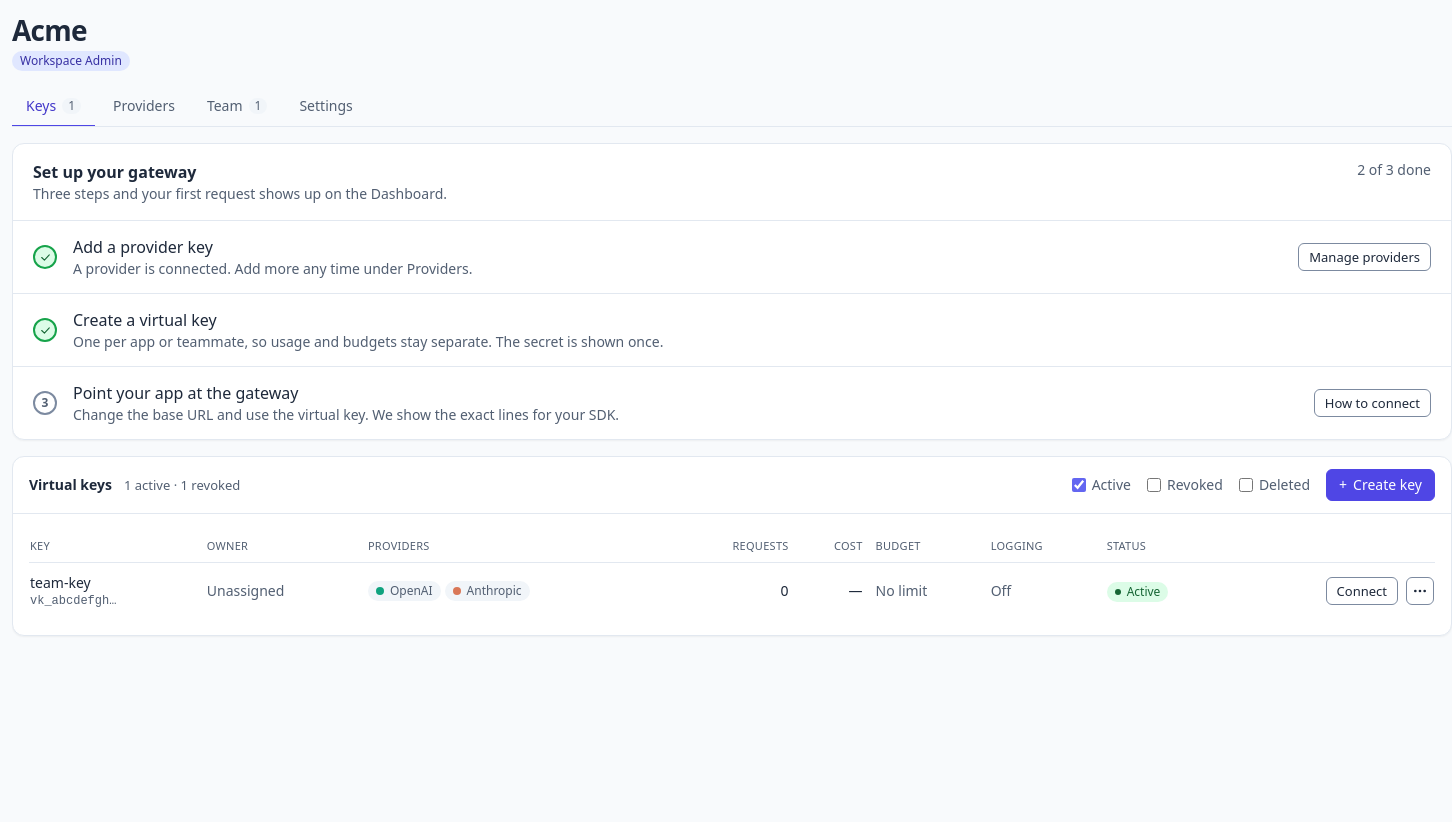
it: Workspace → Connect your app › offers Connect on a live key only, and expands/collapses the guide for it
Click the checkbox labelled "Revoked": {"x": 1154, "y": 485} [1147,478,1161,492]
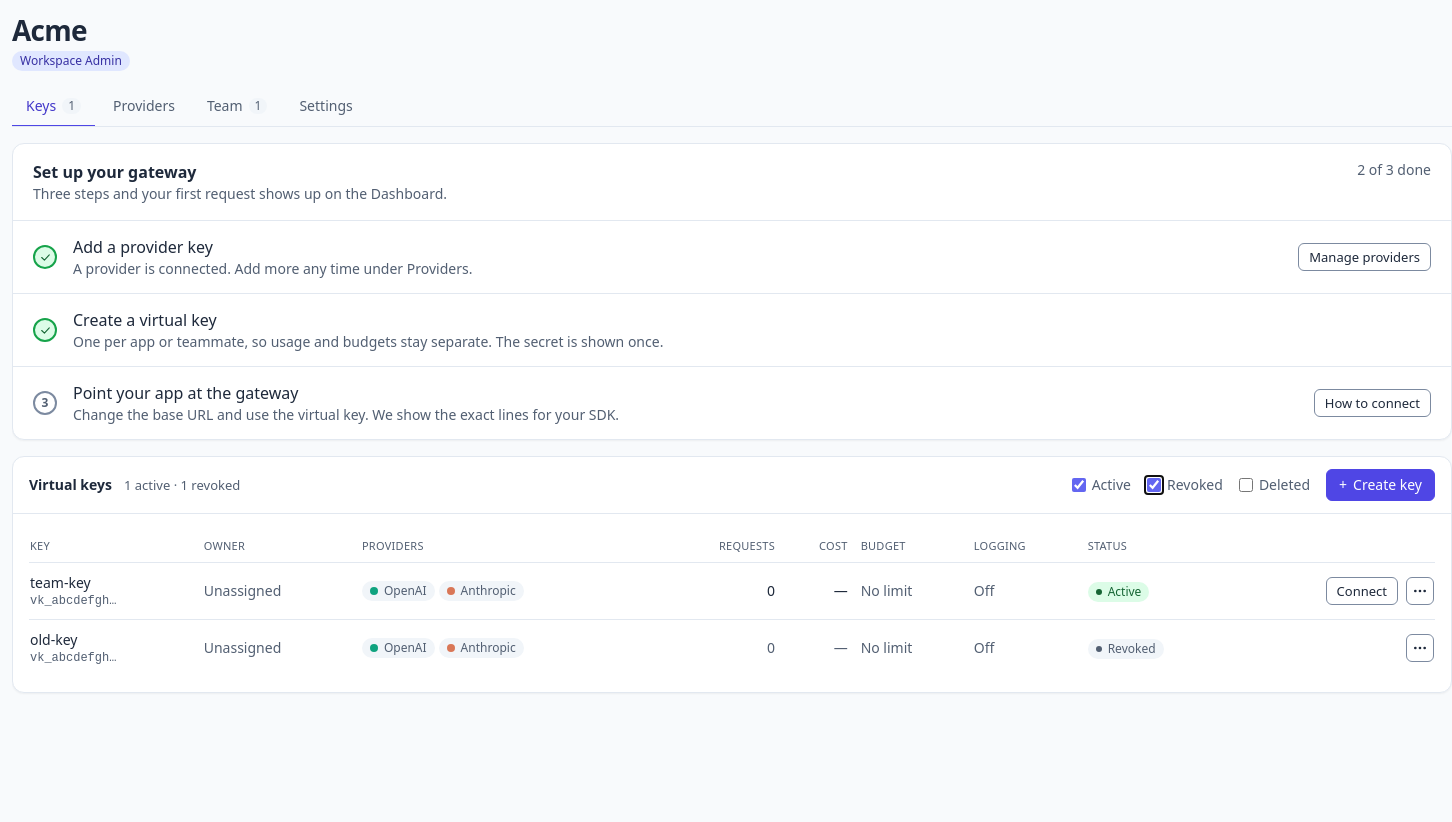
Check: the element "Connect your app" is not shown
Click the button "Connect": {"x": 1362, "y": 591} [1326,577,1398,605]
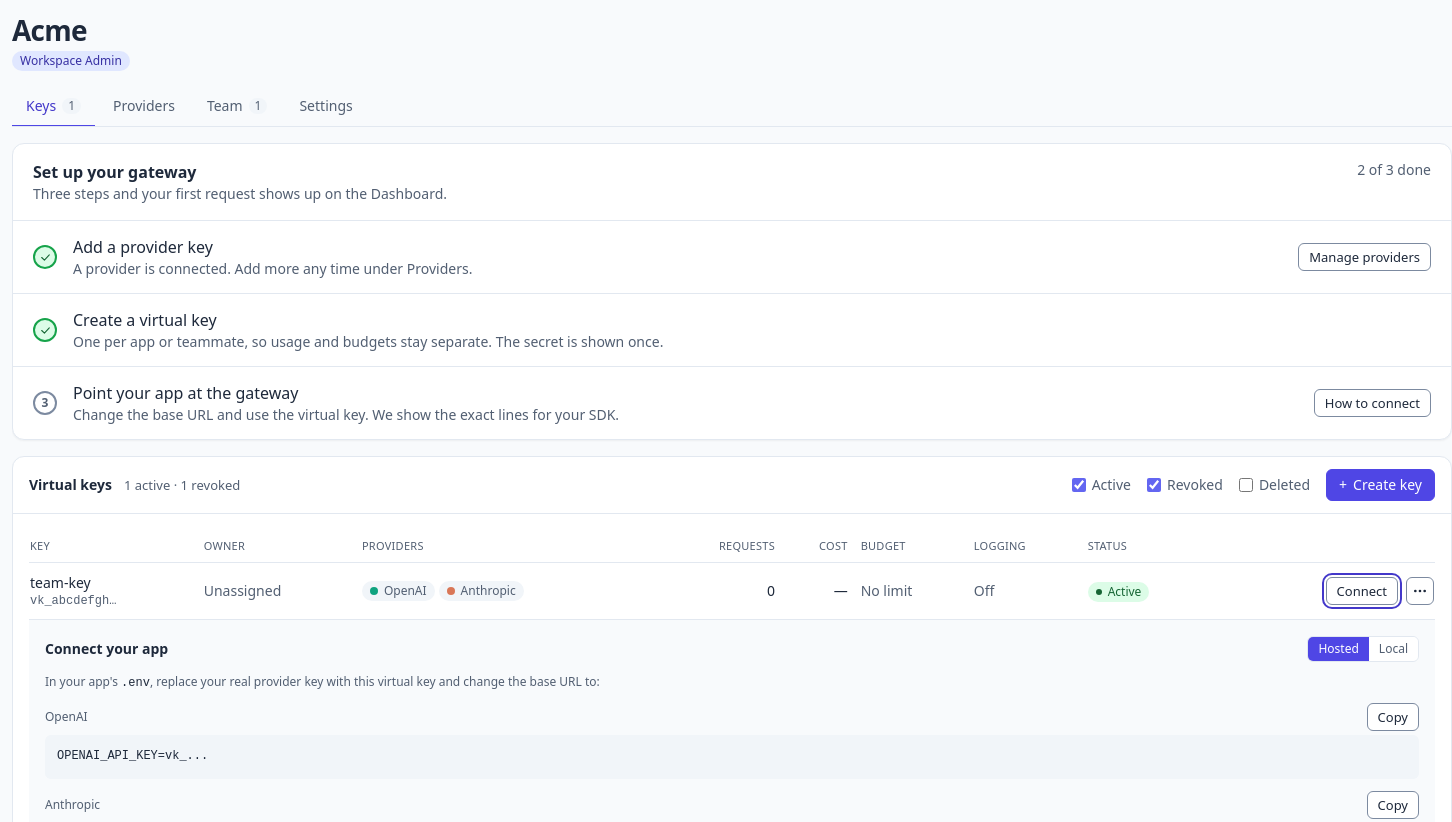
Click the button "Connect": {"x": 1362, "y": 591} [1326,577,1398,605]
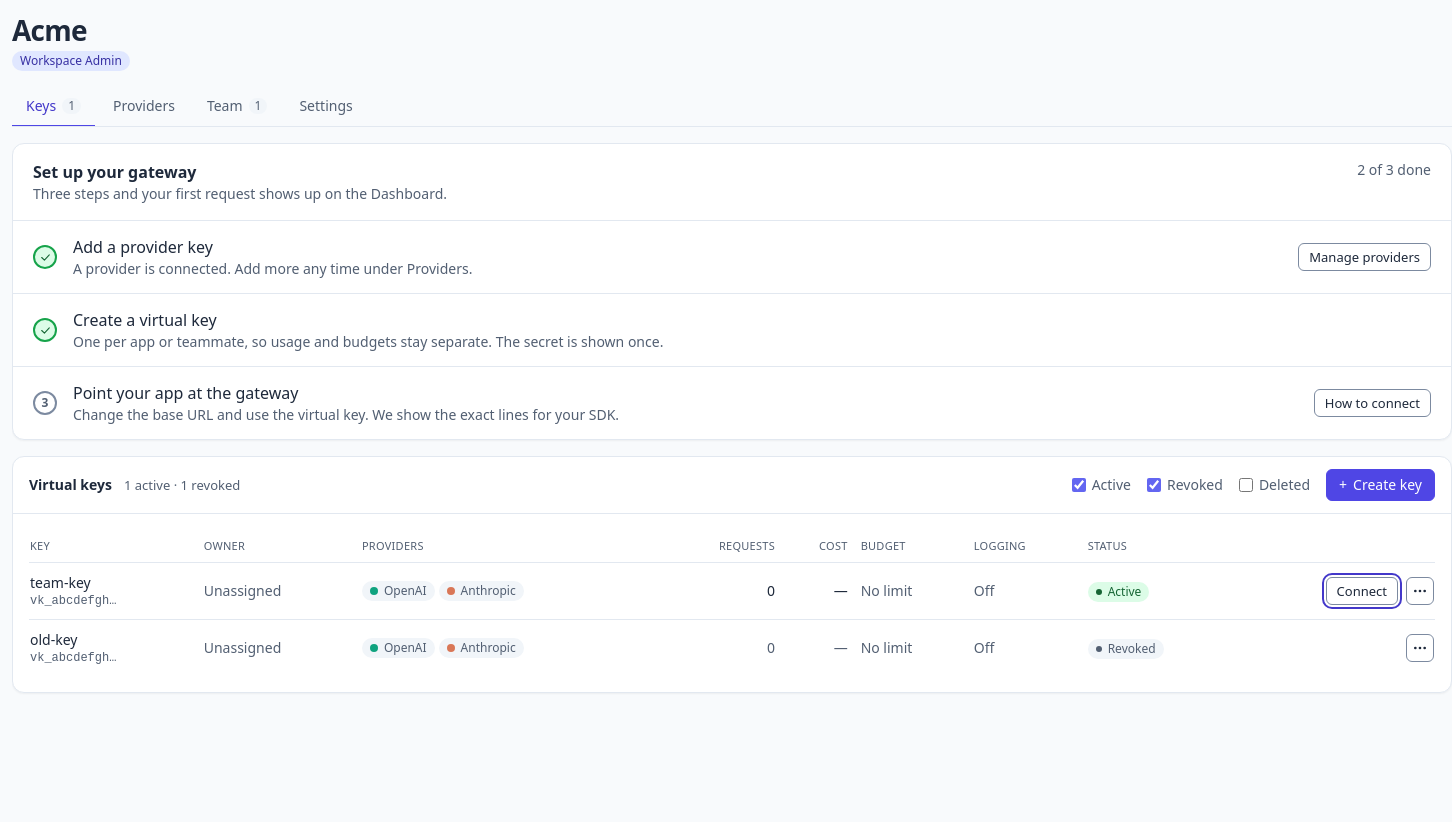
Check: the heading "Connect your app" is gone
